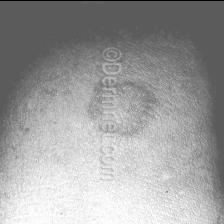Unclassified: (96, 84, 159, 134)
